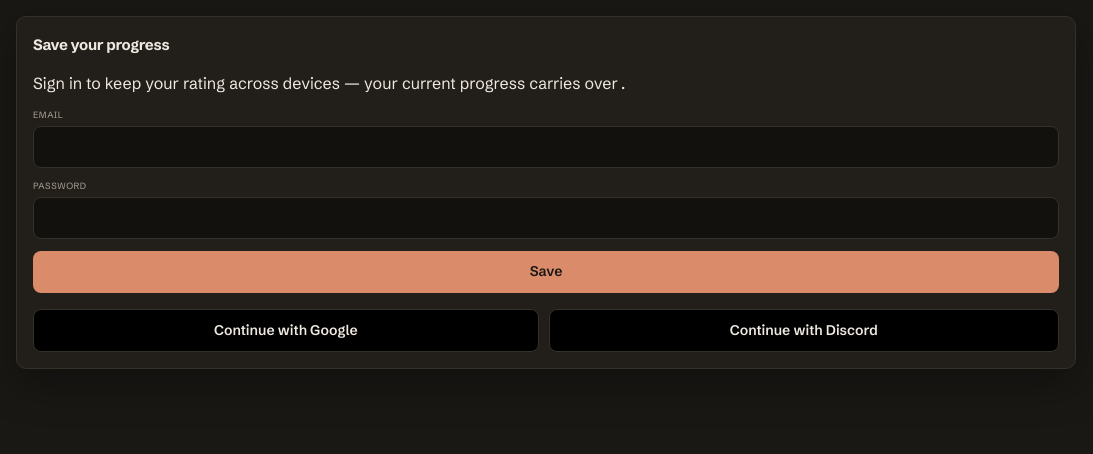
Scenario: SignIn › surfaces an OAuth failure instead of swallowing it (#77)
Click the button "Continue with Google" at (286, 330), box [33,309,539,352]
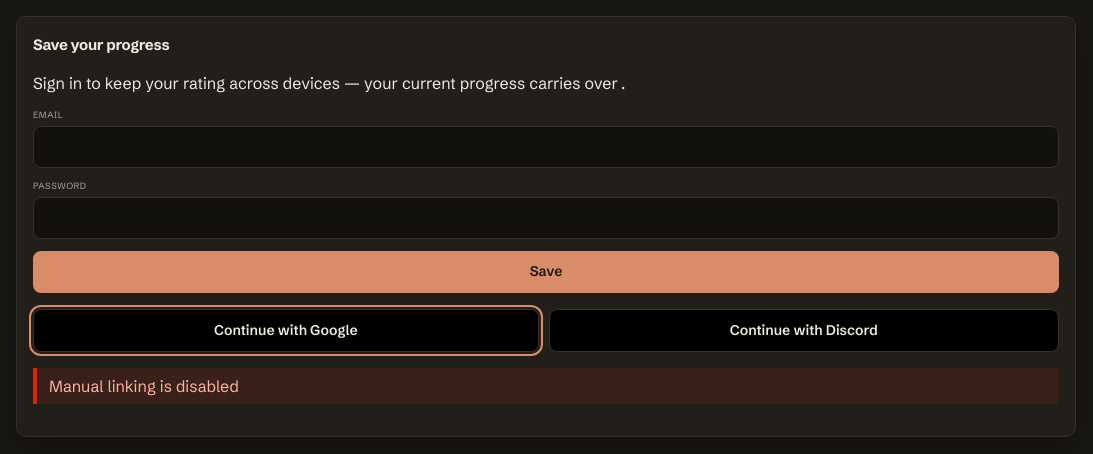
Check: the message reads "Manual linking is disabled", box [49,376,239,396]
